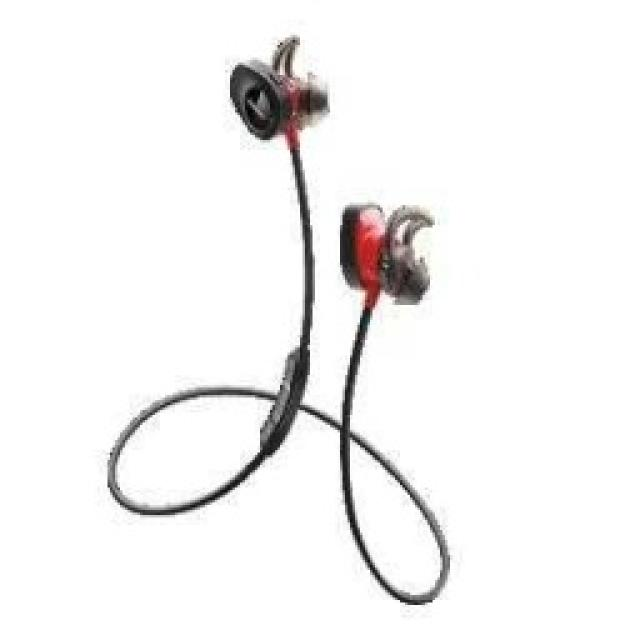headphones: (228, 32, 328, 140)
